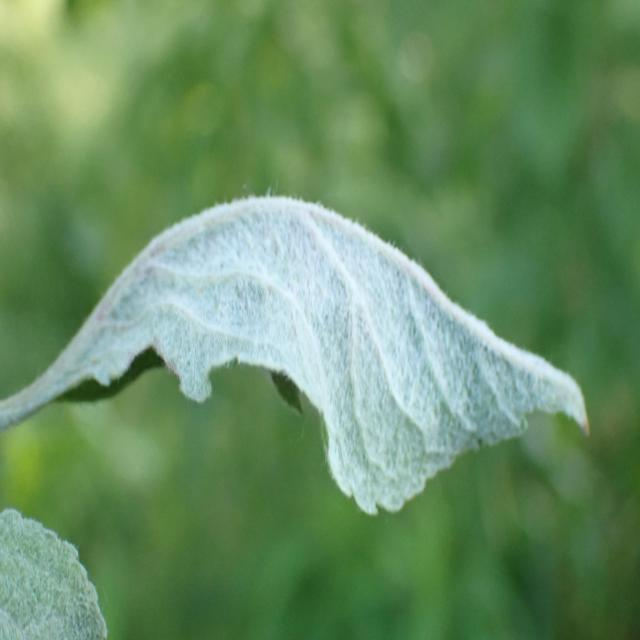Powdery_mildew: (63, 176, 590, 512)
